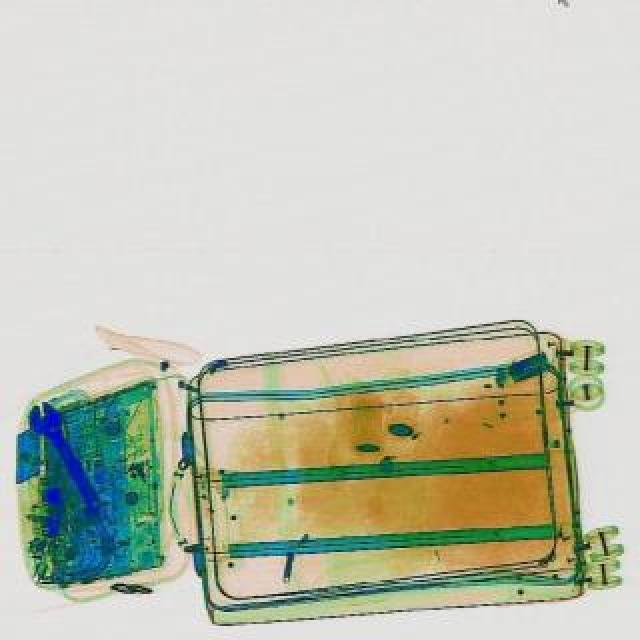scissors: (18, 396, 110, 524)
